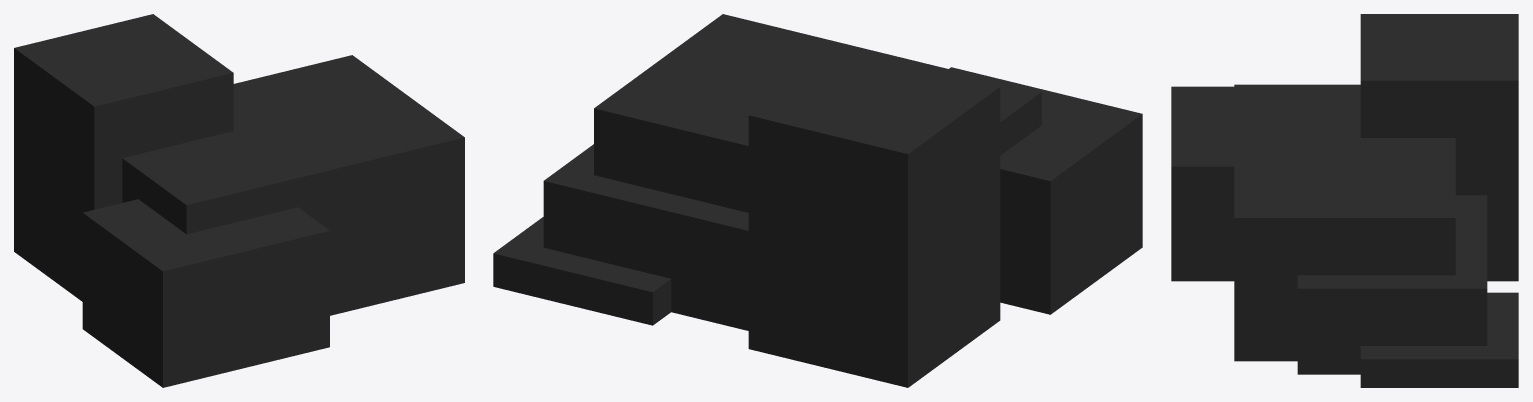
File: rock_3.obj
The picture shows the model from 3 angles, left to right: view 1: azimuth 30°, elevation 25°; view 2: azimuth 150°, elevation 25°; view 3: azimuth 270°, elevation 25°; orthographic projection. The views are drawn at different scales.
Size of the model in its own units: 1.4 by 0.7 by 1.1.
1 material, 1 textured.
